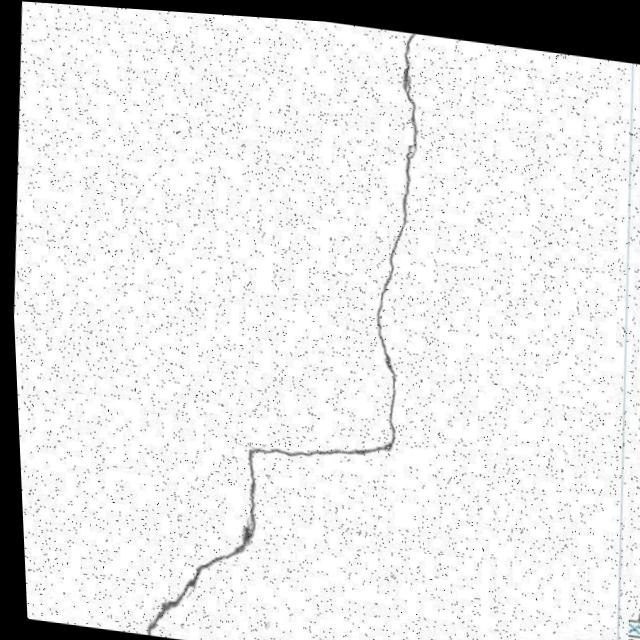Crack: (100, 5, 462, 640), (12, 346, 134, 433)
